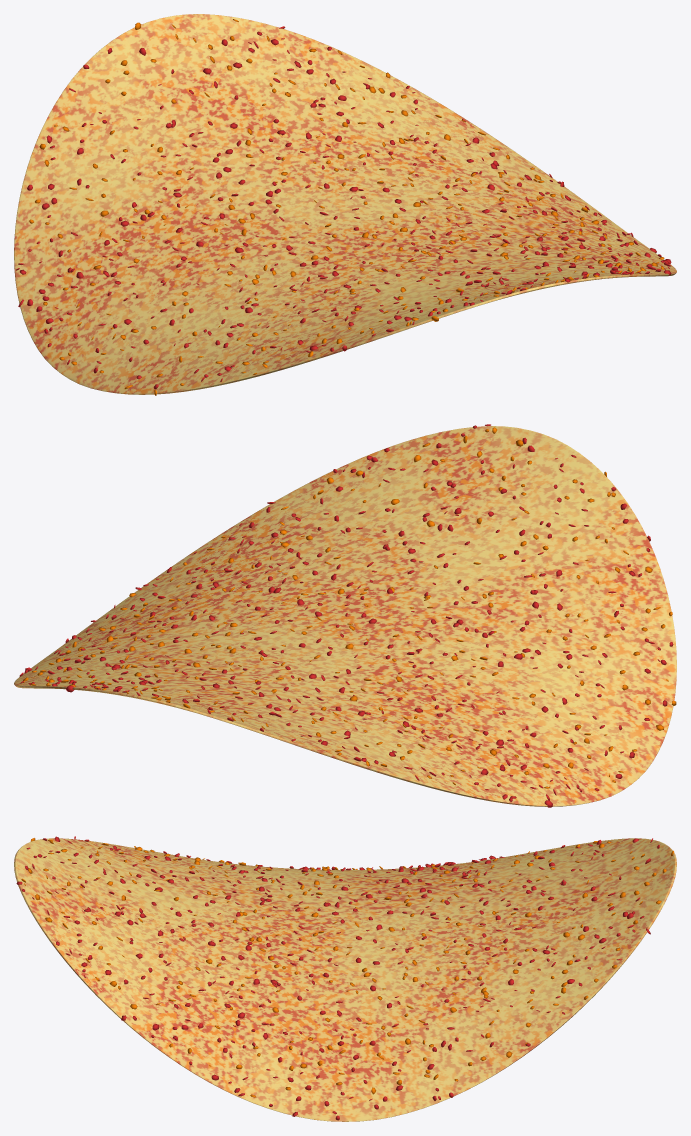
Rendered from Chip_HotSpicy_v2.glb.
The picture shows the model from 3 angles, top to bottom: view 1: azimuth 30°, elevation 25°; view 2: azimuth 150°, elevation 25°; view 3: azimuth 270°, elevation 25°; orthographic projection. The views are drawn at different scales.
Visible parts, largest first — view 1: Chip_HotSpicy, Powder_HotSpicy_Baked; view 2: Chip_HotSpicy, Powder_HotSpicy_Baked; view 3: Chip_HotSpicy, Powder_HotSpicy_Baked.
Boxes of the visible parts, x1=… form: Chip_HotSpicy: x1=14, y1=14, x2=676, y2=394; Powder_HotSpicy_Baked: x1=16, y1=19, x2=671, y2=395; Chip_HotSpicy: x1=14, y1=426, x2=676, y2=806; Powder_HotSpicy_Baked: x1=19, y1=424, x2=676, y2=807; Chip_HotSpicy: x1=14, y1=838, x2=676, y2=1121; Powder_HotSpicy_Baked: x1=16, y1=836, x2=673, y2=1120.
Bounding box in the file's own units: 0.0549 × 0.0142 × 0.062.
2 materials, 2 textured.
